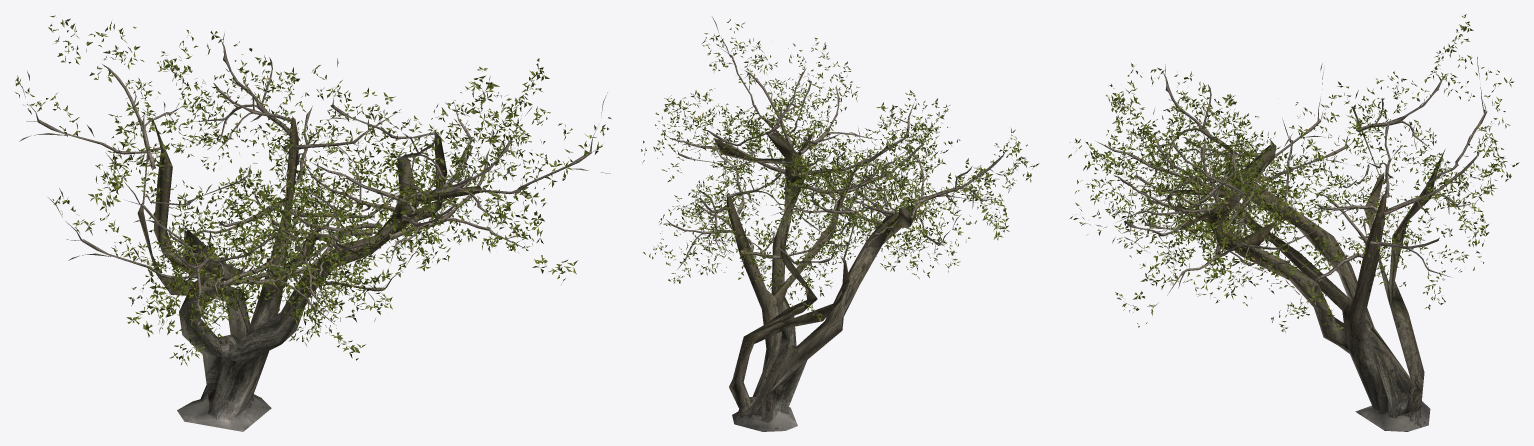
File: island_tree_02.glb
3 renders of one model, left to right at view 1: azimuth 30°, elevation 25°; view 2: azimuth 150°, elevation 25°; view 3: azimuth 270°, elevation 25°, orthographic. The views are drawn at different scales.
Parts seen in each view (by area): view 1: island_tree_02_LOD0; view 2: island_tree_02_LOD0; view 3: island_tree_02_LOD0.
Part boxes in pixels (<box>): island_tree_02_LOD0: <box>15,15,611,431</box>; island_tree_02_LOD0: <box>641,17,1039,431</box>; island_tree_02_LOD0: <box>1068,14,1519,431</box>.
Bounding box in the file's own units: 3.99 × 3.4 × 4.03.
3 materials, 3 textured.
